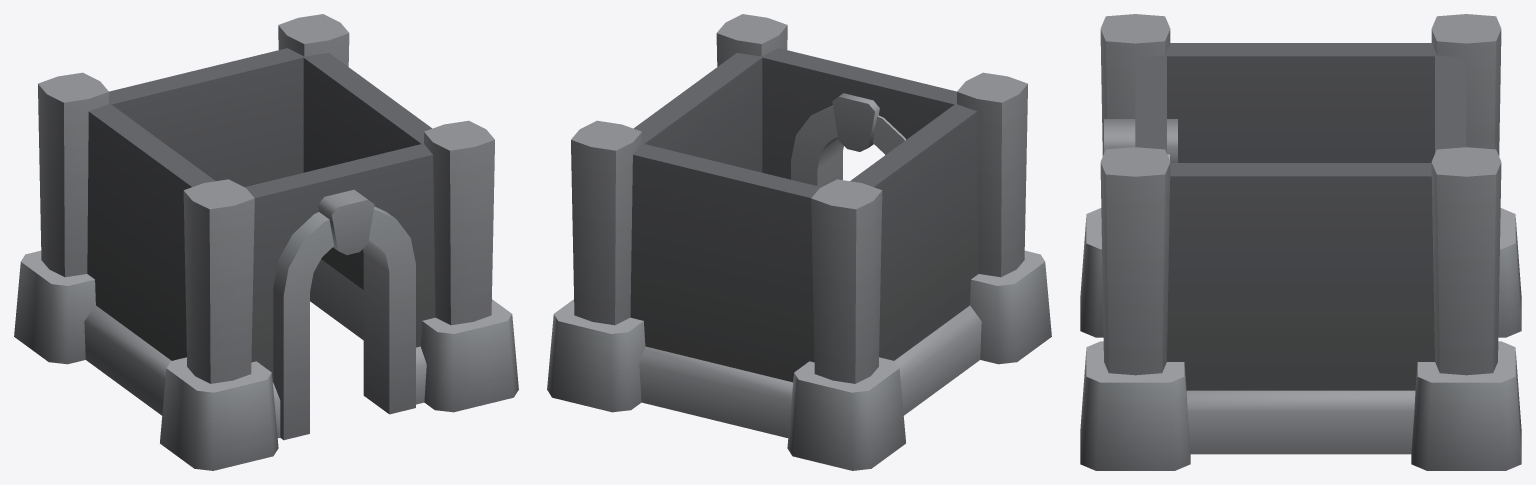
File: crypt-small.glb
3 views of the same model, side by side, from view 1: azimuth 30°, elevation 25°; view 2: azimuth 150°, elevation 25°; view 3: azimuth 270°, elevation 25° (orthographic). The views are drawn at different scales.
Parts seen in each view (by area): view 1: crypt-small; view 2: crypt-small; view 3: crypt-small.
Boxes of the visible parts, x1,y1,x2,y2 form: crypt-small: [14, 14, 518, 470]; crypt-small: [547, 14, 1051, 470]; crypt-small: [1080, 14, 1521, 470].
Bounding box in the file's own units: 3.24 × 2.4 × 3.36.
Materials: 1 (1 with a texture image).
